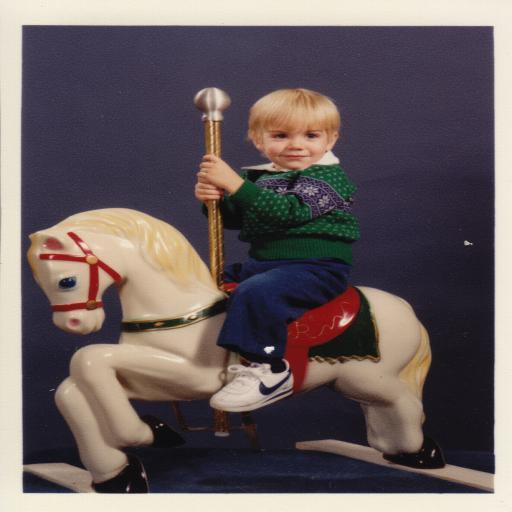horse: (26, 207, 448, 493)
